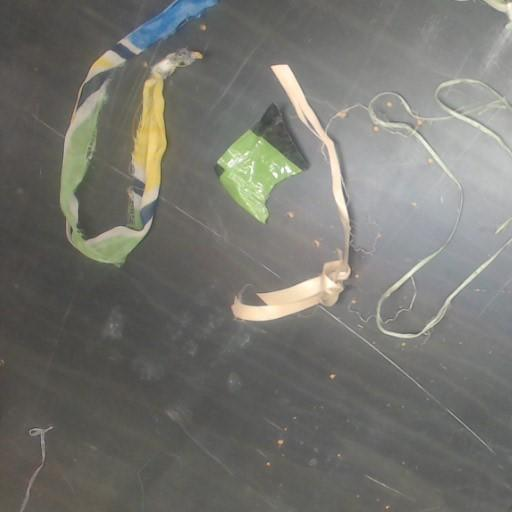cotton: (60, 0, 217, 265)
packet: (215, 104, 308, 223)
thread: (362, 78, 511, 338), (231, 64, 350, 320), (19, 426, 52, 511)
